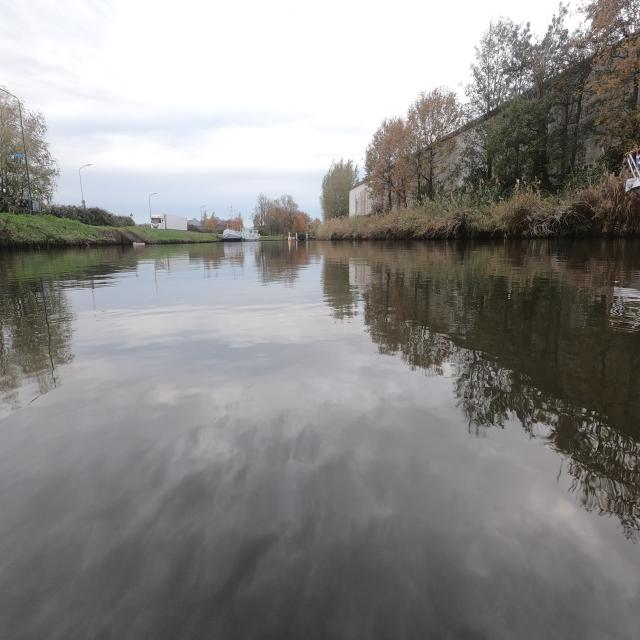grass: (1, 214, 141, 243)
reed: (316, 173, 640, 240)
sky: (3, 1, 553, 217)
tree: (365, 0, 640, 215), (584, 0, 640, 151)
water: (1, 234, 639, 639)
